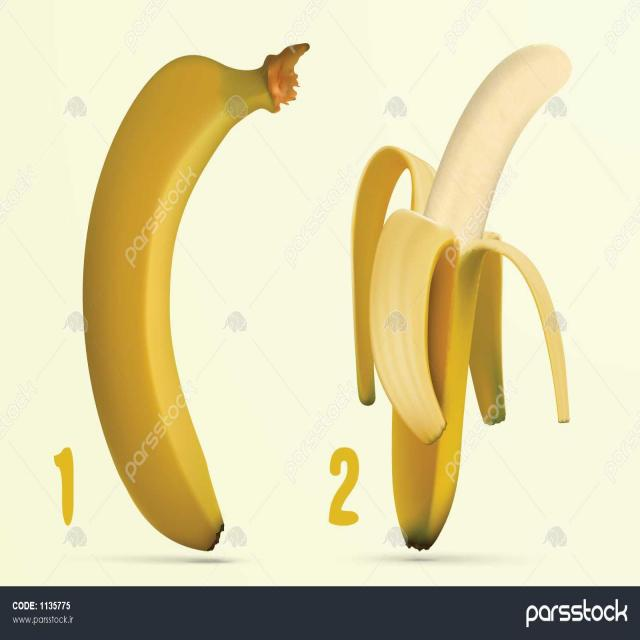banana: (361, 39, 573, 555), (78, 39, 224, 554)
